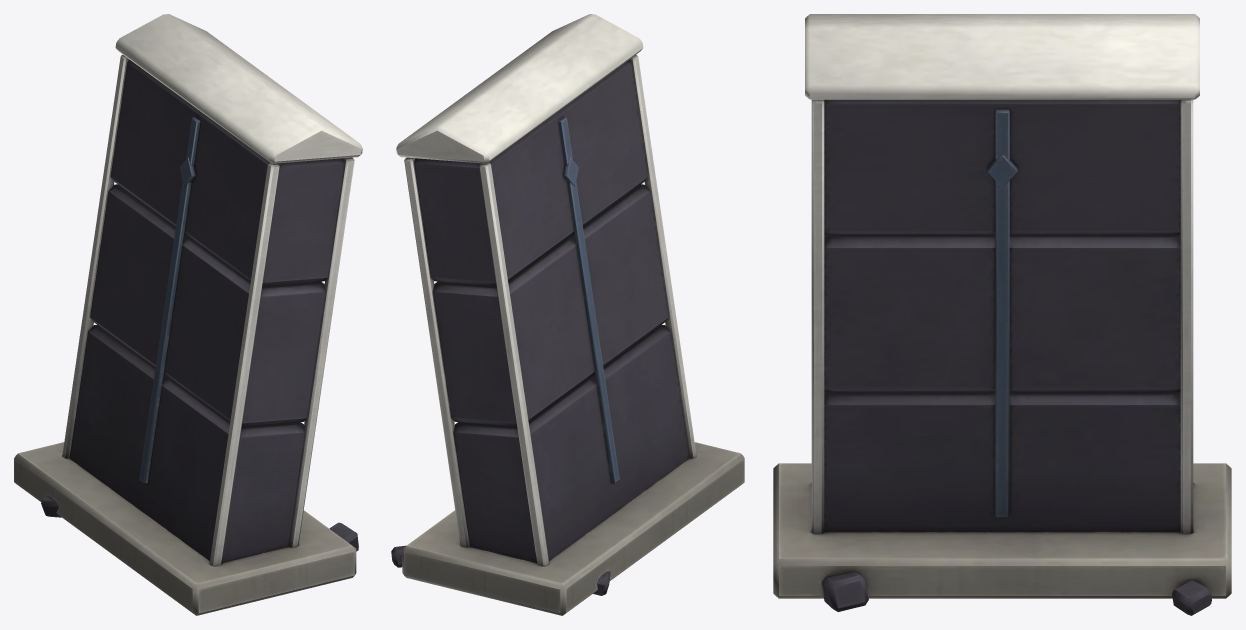
The model's file is shadow_slab.glb.
The picture shows the model from 3 angles, left to right: view 1: azimuth 30°, elevation 25°; view 2: azimuth 150°, elevation 25°; view 3: azimuth 270°, elevation 25°; orthographic projection. The views are drawn at different scales.
Parts seen in each view (by area): view 1: shadow_slab_body; view 2: shadow_slab_body; view 3: shadow_slab_body.
Boxes of the visible parts, box(x1,y1,x2,y2) form: shadow_slab_body: box(14, 14, 362, 615); shadow_slab_body: box(391, 14, 744, 615); shadow_slab_body: box(773, 14, 1231, 615).
Bounding box in the file's own units: 1.81 × 3.96 × 2.9.
1 material, 1 textured.
